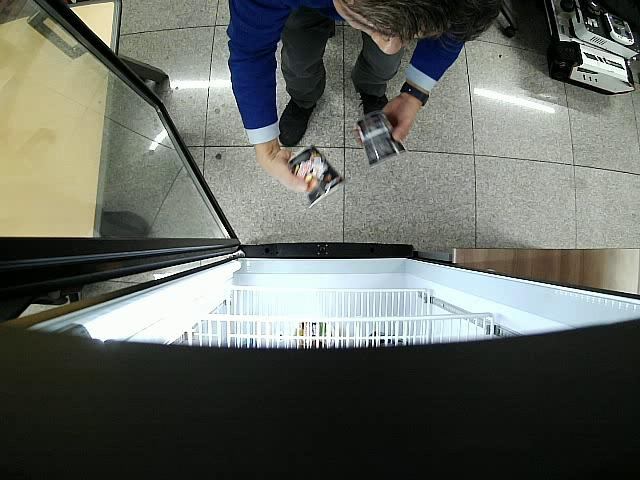00_hand: (355, 97, 415, 146), (255, 147, 308, 193)
08_buldak_S: (288, 146, 343, 208), (356, 112, 407, 168)
